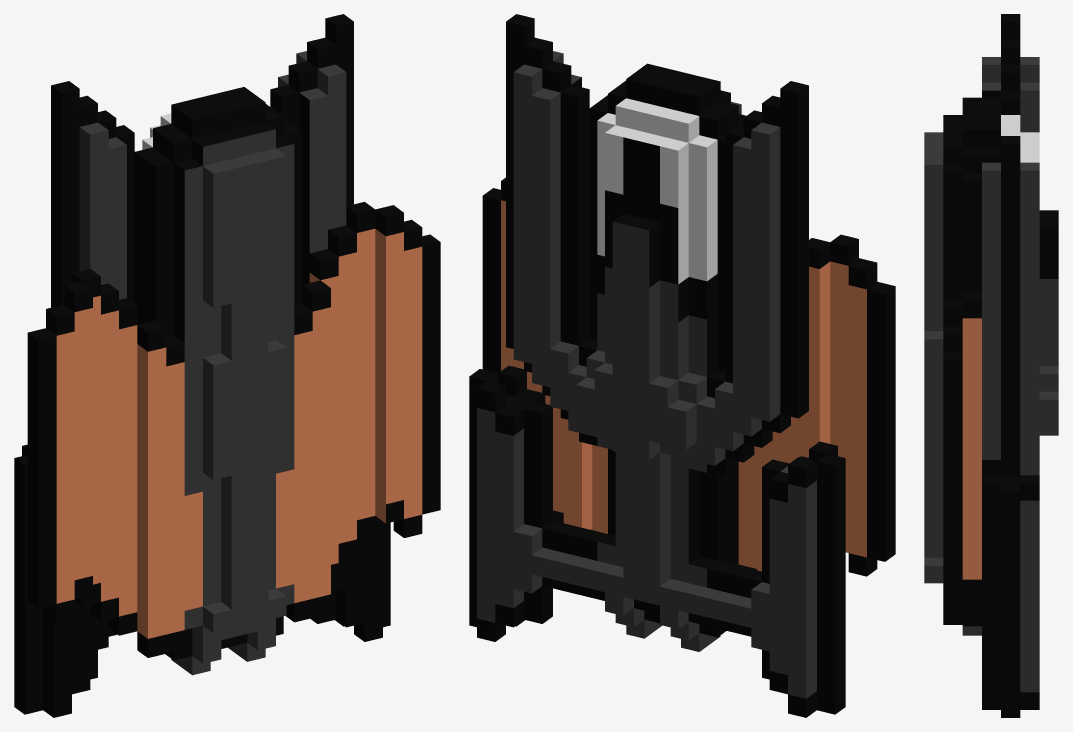
The model's file is Player ship model.fbx.
3 renders of one model, left to right at view 1: azimuth 30°, elevation 25°; view 2: azimuth 150°, elevation 25°; view 3: azimuth 270°, elevation 25°, orthographic. The views are drawn at different scales.
Visible parts, largest first — view 1: Player ship; view 2: Player ship; view 3: Player ship.
Boxes of the visible parts, <box> form: Player ship: <box>14,14,440,717</box>; Player ship: <box>469,14,895,717</box>; Player ship: <box>924,14,1058,717</box>.
Bounding box in the file's own units: 2200 × 3200 × 700.
